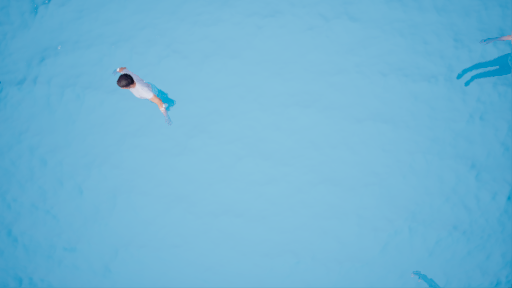person: (116, 68, 182, 125)
